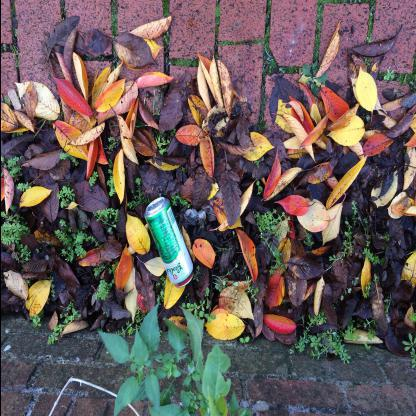metal: (145, 197, 194, 291)
